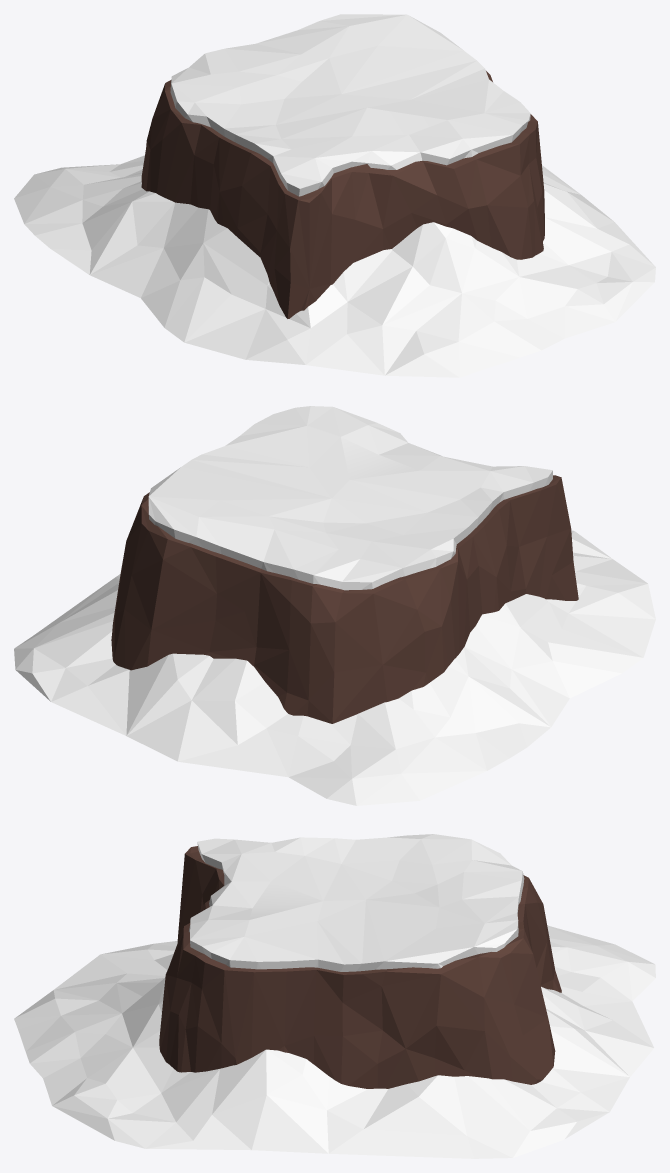
Rendered from snow_crag_004.fbx.
The picture shows the model from 3 angles, top to bottom: view 1: azimuth 30°, elevation 25°; view 2: azimuth 150°, elevation 25°; view 3: azimuth 270°, elevation 25°; orthographic projection. The views are drawn at different scales.
Visible parts, largest first — view 1: snow_crag_004; view 2: snow_crag_004; view 3: snow_crag_004.
Part boxes in pixels (x1,y1,x2,y2): snow_crag_004: (14, 14, 655, 377); snow_crag_004: (14, 406, 655, 805); snow_crag_004: (14, 834, 655, 1158).
Bounding box in the file's own units: 6092 × 7178 × 2134.
